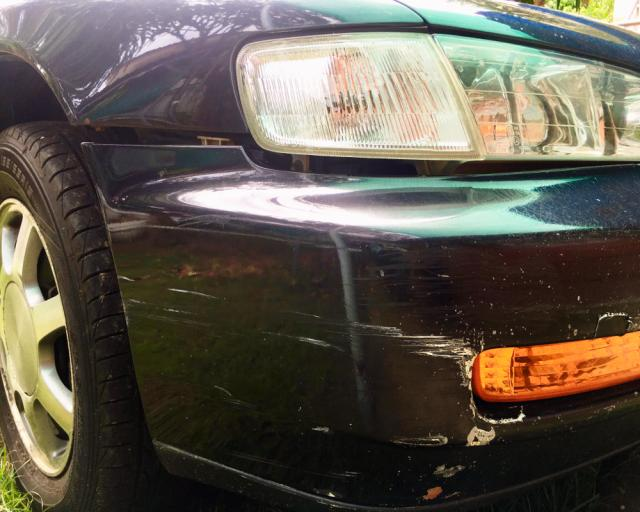scratch: (122, 273, 499, 478)
